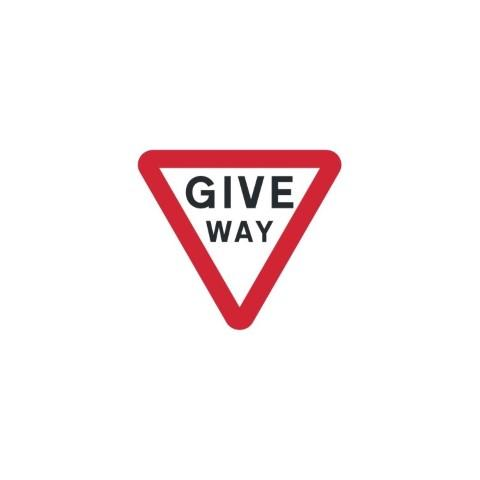Give Way: (122, 138, 356, 346)
